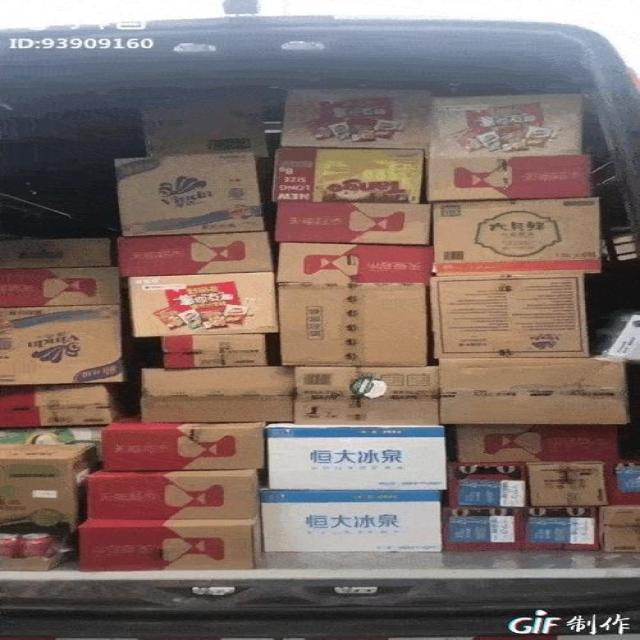box: (430, 272, 591, 359), (433, 196, 600, 276), (114, 152, 265, 237), (439, 358, 630, 424), (278, 282, 428, 366), (265, 422, 447, 491), (259, 491, 443, 552), (428, 93, 582, 161), (0, 303, 124, 385), (127, 271, 279, 337), (78, 517, 255, 571), (141, 107, 269, 181), (140, 364, 298, 423), (102, 417, 266, 471), (0, 444, 99, 533), (280, 91, 431, 149), (86, 469, 259, 519), (294, 365, 439, 424), (271, 149, 425, 204), (426, 155, 595, 202), (118, 231, 274, 277), (276, 242, 435, 284), (275, 203, 434, 244), (456, 423, 618, 463), (0, 382, 127, 428), (0, 267, 120, 306), (161, 333, 268, 368), (442, 506, 527, 550), (526, 461, 609, 506), (522, 505, 602, 549), (448, 463, 527, 507), (0, 238, 111, 268), (591, 312, 640, 361), (598, 505, 640, 554), (604, 460, 640, 506)
